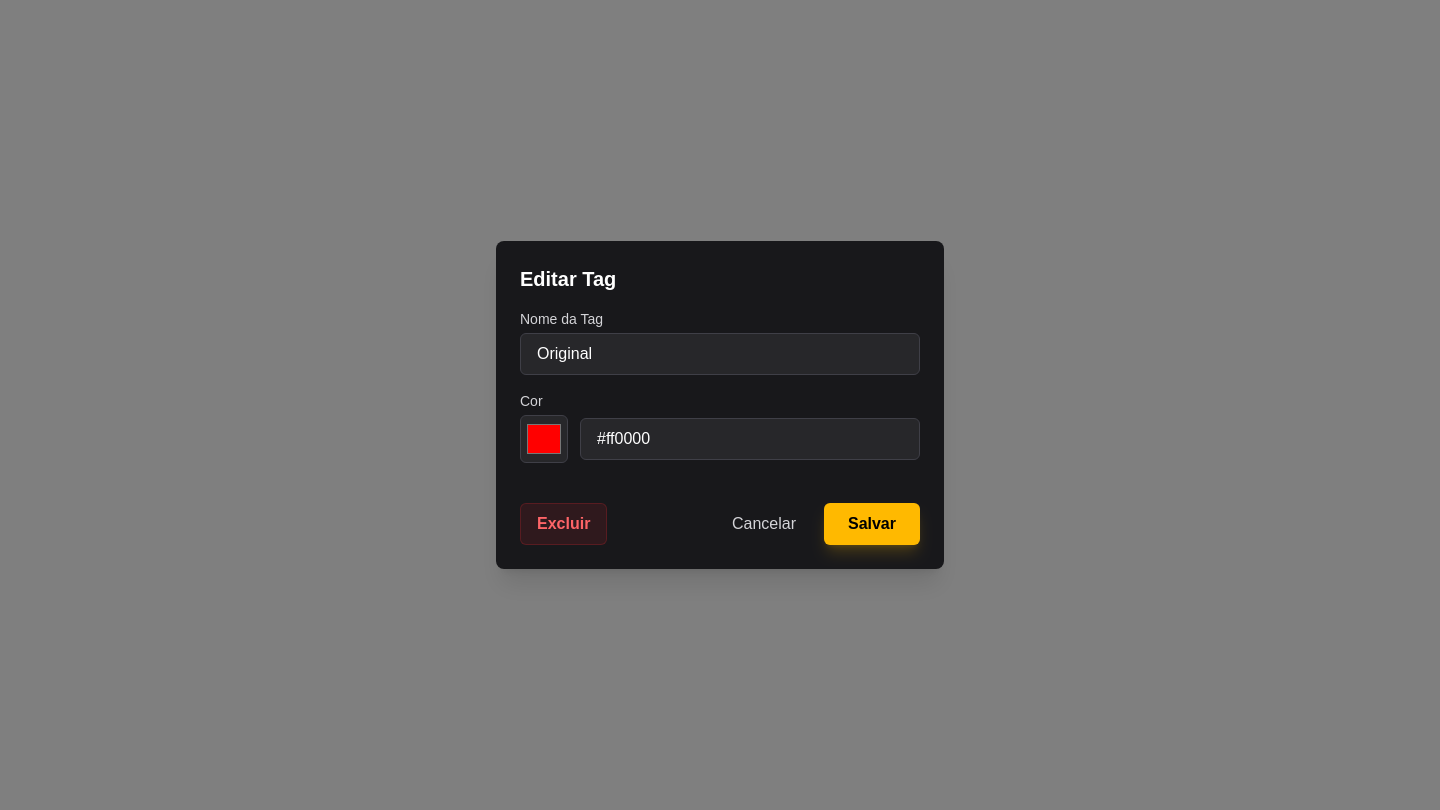
Test: RF5 - Editar e Excluir Tags (Frontend) › deve exibir mensagem de erro 404 quando a tag não for encontrada
This screenshot has width=1440, height=810.
Click the button "Salvar" at (872, 524), box top-left (824, 503), bottom-right (920, 545)
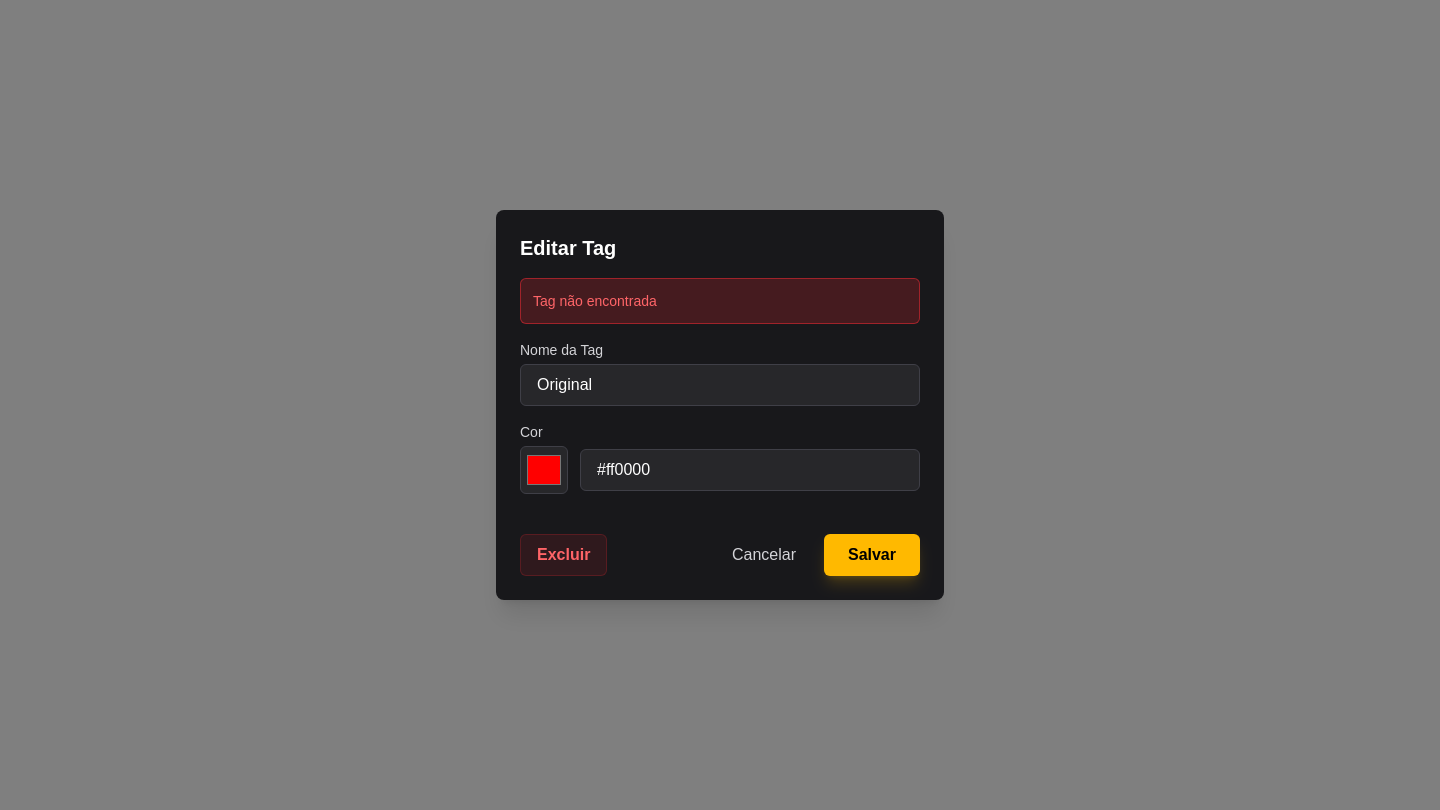
Check: the text "Tag não encontrada" is shown, box top-left (520, 278), bottom-right (920, 324)
